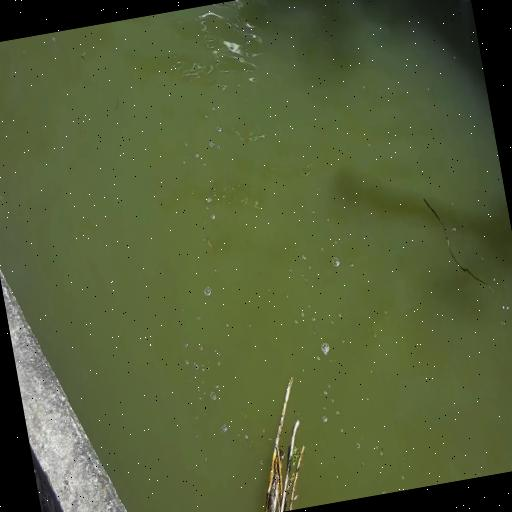twig: (227, 369, 318, 512)
